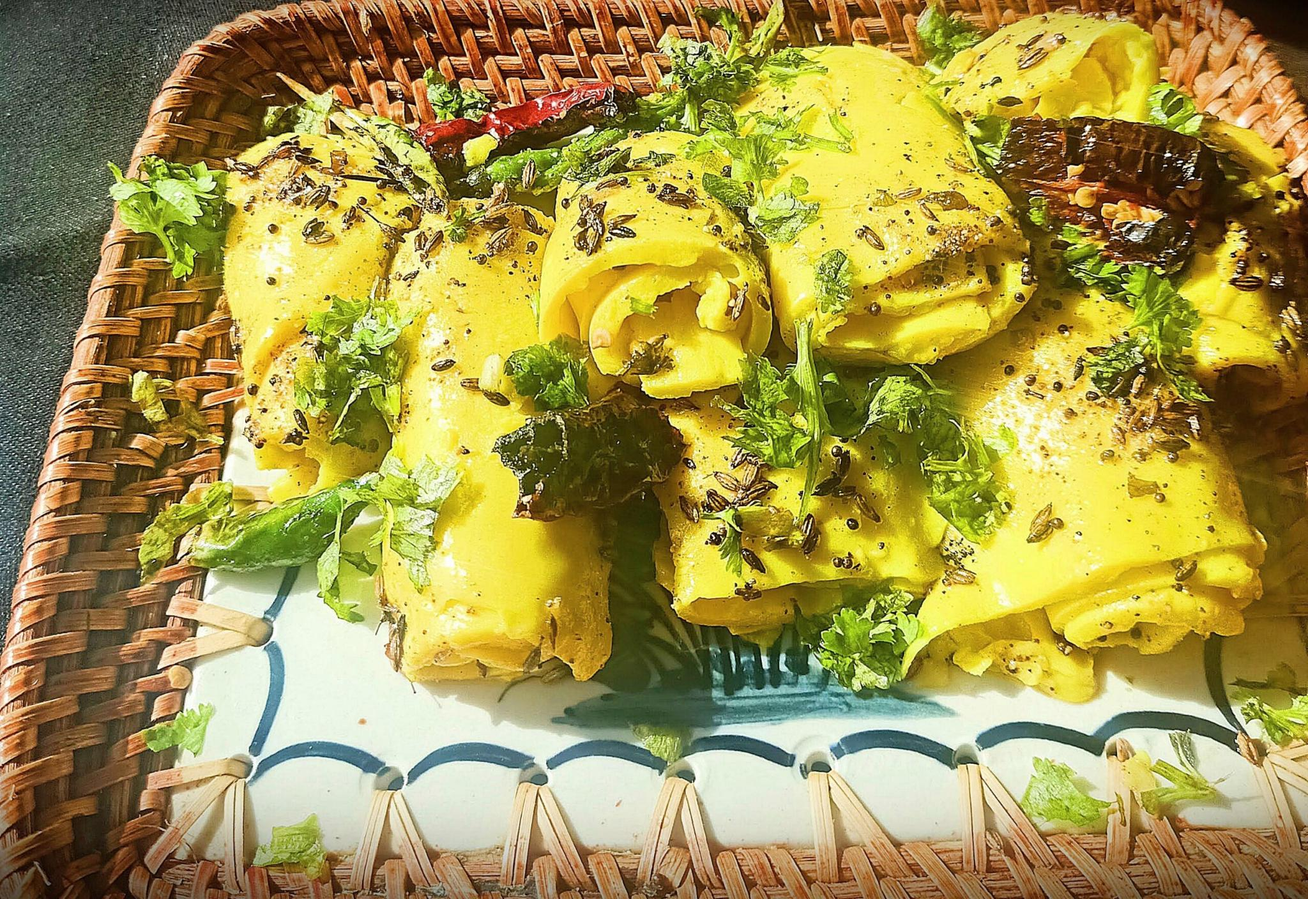khandvi: (217, 158, 1295, 654)
